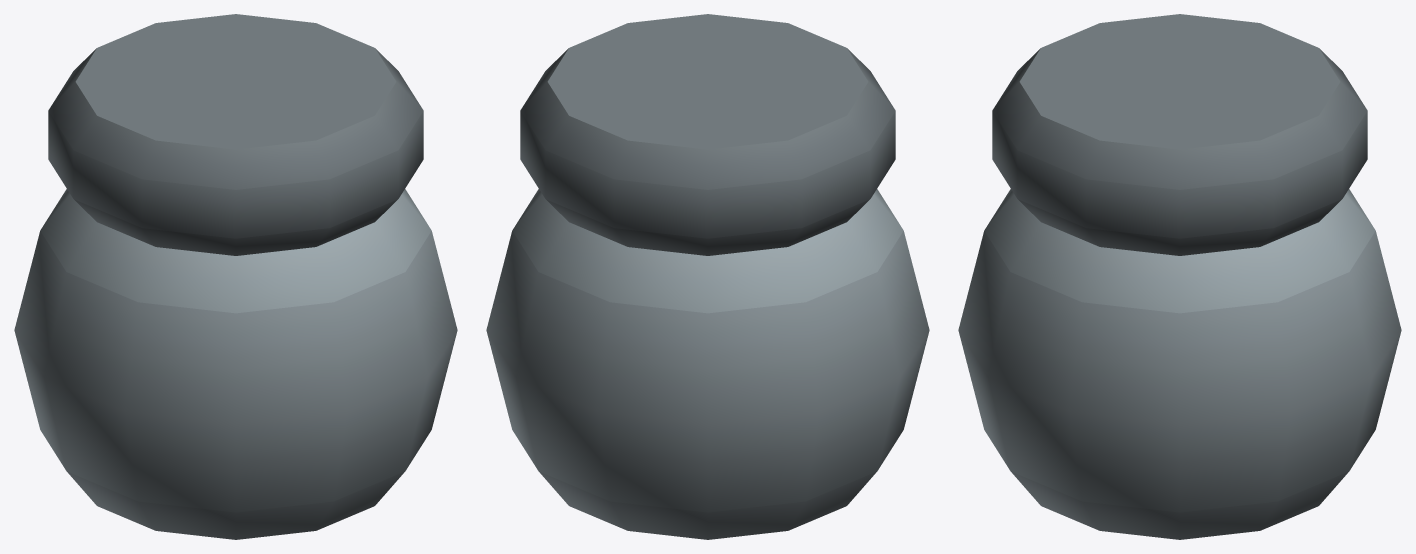
The model's file is kay-jar_b_small.glb.
3 renders of one model, left to right at view 1: azimuth 30°, elevation 25°; view 2: azimuth 150°, elevation 25°; view 3: azimuth 270°, elevation 25°, orthographic.
Visible parts, largest first — view 1: jar_B_small; view 2: jar_B_small; view 3: jar_B_small.
Boxes of the visible parts, <box> form: jar_B_small: <box>14,14,457,539</box>; jar_B_small: <box>486,14,929,539</box>; jar_B_small: <box>958,14,1401,539</box>.
Bounding box in the file's own units: 0.22 × 0.2138 × 0.22.
Materials: 1 (1 with a texture image).
